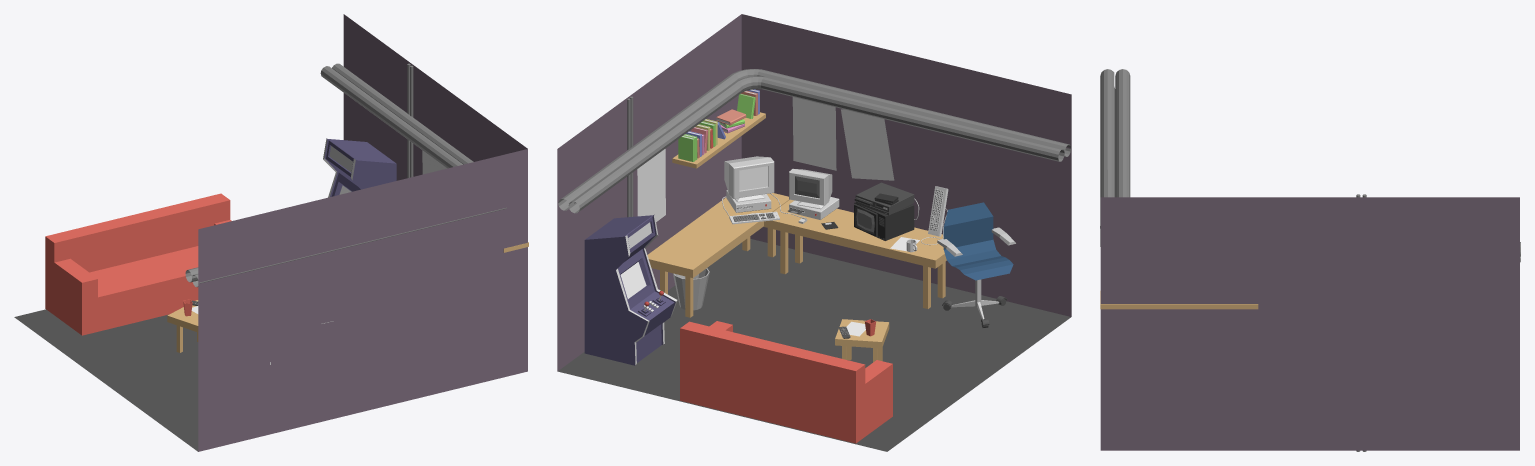
File: hacker_room.glb
3 views of the same model, side by side, from view 1: azimuth 30°, elevation 25°; view 2: azimuth 150°, elevation 25°; view 3: azimuth 270°, elevation 25° (orthographic). The views are drawn at different scales.
Parts seen in each view (by area): view 1: Room.Wall.001, Couch.001, Arcade.001, Ceiling.001, Ceiling.002, Table.Small.001; view 2: Room.Wall.001, Couch.001, Arcade.001, Ceiling.001, Table1_Plane, Table2_Plane.009, Chair2.002, Ceiling.002, Poster.001, Poster.002, Books_Plane.001, Poster.003 (+10 smaller); view 3: Room.Wall.001, Ceiling.002, Ceiling.001, Books_Plane.001.
Part boxes in pixels (x1,y1,x2,y2): Room.Wall.001: [14, 14, 527, 451]; Couch.001: [45, 193, 231, 335]; Arcade.001: [323, 138, 396, 197]; Ceiling.001: [185, 66, 462, 282]; Ceiling.002: [192, 63, 506, 287]; Table.Small.001: [167, 300, 198, 352]; Room.Wall.001: [557, 14, 1071, 451]; Couch.001: [680, 321, 892, 443]; Arcade.001: [584, 214, 677, 365]; Ceiling.001: [568, 76, 1064, 213]; Table1_Plane: [647, 193, 789, 317]; Table2_Plane.009: [764, 199, 946, 308]; Chair2.002: [937, 202, 1015, 327]; Ceiling.002: [558, 69, 1070, 210]; Poster.001: [841, 109, 894, 180]; Poster.002: [792, 97, 836, 170]; Books_Plane.001: [672, 89, 765, 168]; Poster.003: [637, 149, 665, 221]; Room.Wall.001: [1100, 197, 1519, 450]; Ceiling.002: [1100, 69, 1520, 262]; Ceiling.001: [1115, 69, 1520, 256]; Books_Plane.001: [1100, 291, 1258, 309].
Size of the model in its own units: 4.01 by 2.61 by 3.89.
